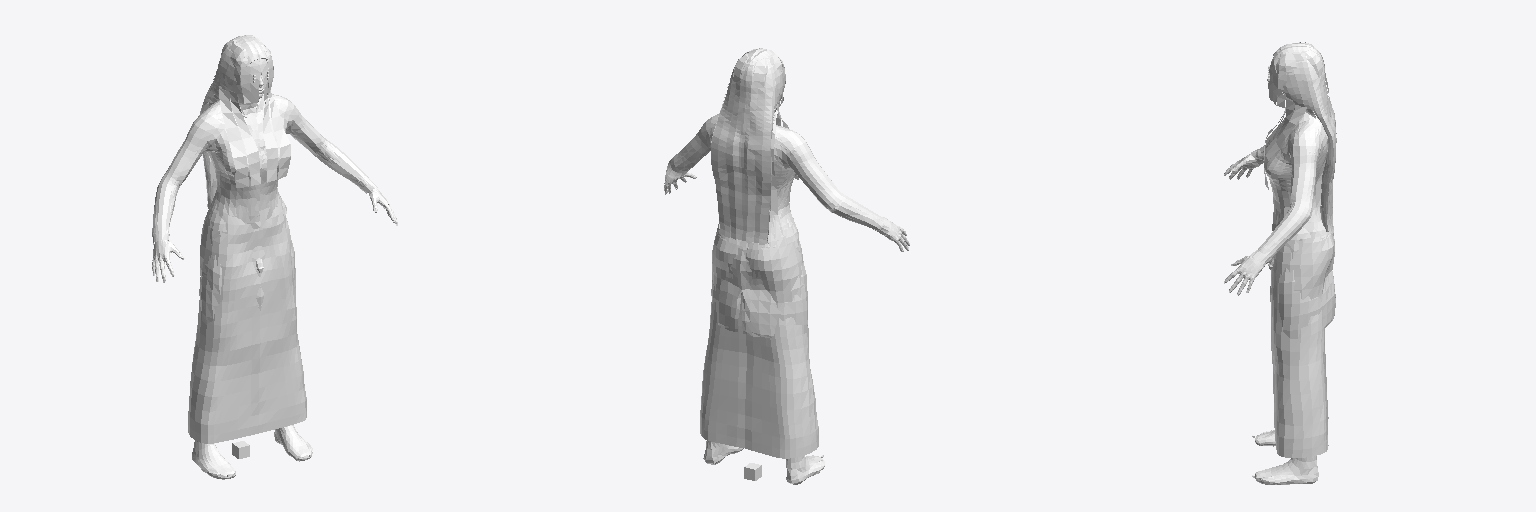
Rendered from woman.obj.
3 views of the same model, side by side, from view 1: azimuth 30°, elevation 25°; view 2: azimuth 150°, elevation 25°; view 3: azimuth 270°, elevation 25° (orthographic).
Visible parts, largest first — view 1: base.obj, female_elegantsuit01.obj, long01.obj; view 2: base.obj, long01.obj, female_elegantsuit01.obj; view 3: base.obj, long01.obj, female_elegantsuit01.obj.
Boxes of the visible parts, <box> form: base.obj: <box>152,35,397,479</box>; female_elegantsuit01.obj: <box>152,95,371,324</box>; long01.obj: <box>200,35,268,208</box>; base.obj: <box>664,49,909,484</box>; long01.obj: <box>711,48,783,244</box>; female_elegantsuit01.obj: <box>666,122,883,337</box>; base.obj: <box>1224,42,1333,484</box>; long01.obj: <box>1273,43,1336,231</box>; female_elegantsuit01.obj: <box>1256,112,1335,338</box>.
Size of the model in its own units: 11.6 by 19.38 by 4.72.